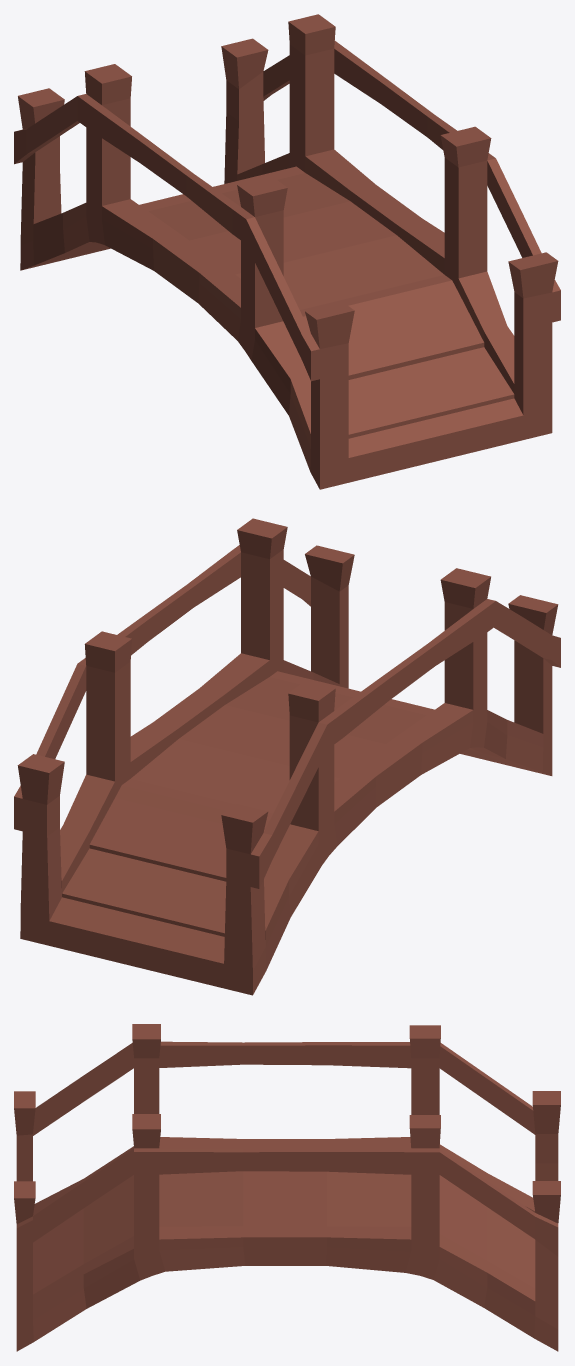
The model's file is Bridge.fbx.
The picture shows the model from 3 angles, top to bottom: view 1: azimuth 30°, elevation 25°; view 2: azimuth 150°, elevation 25°; view 3: azimuth 270°, elevation 25°; orthographic projection. The views are drawn at different scales.
Visible parts, largest first — view 1: Plane; view 2: Plane; view 3: Plane.
Part boxes in pixels (bbox=[...]): Plane: bbox=[14, 14, 560, 489]; Plane: bbox=[14, 518, 560, 995]; Plane: bbox=[14, 1024, 560, 1351].
Size of the model in its own units: 300 by 284 by 629.
